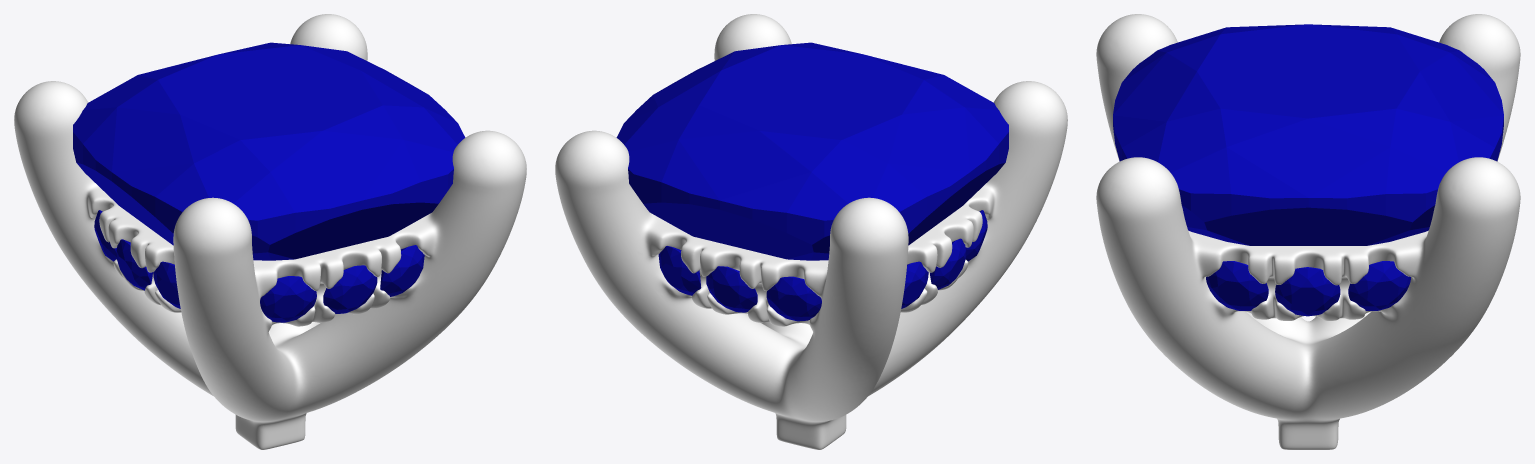
File: Cushion Square.glb
3 renders of one model, left to right at view 1: azimuth 30°, elevation 25°; view 2: azimuth 150°, elevation 25°; view 3: azimuth 270°, elevation 25°, orthographic. The views are drawn at different scales.
Parts seen in each view (by area): view 1: /GSMOD388300-HIDDEN HALO_CUSHION SQUARE_IJ.3dm, Diamond_Cushion Square, Diamond_Round (×5); view 2: /GSMOD388300-HIDDEN HALO_CUSHION SQUARE_IJ.3dm, Diamond_Cushion Square, Diamond_Round (×5); view 3: /GSMOD388300-HIDDEN HALO_CUSHION SQUARE_IJ.3dm, Diamond_Cushion Square, Diamond_Round (×3).
Part boxes in pixels (x1=…): /GSMOD388300-HIDDEN HALO_CUSHION SQUARE_IJ.3dm: x1=14, y1=14, x2=526, y2=449; Diamond_Cushion Square: x1=73, y1=42, x2=465, y2=260; Diamond_Round (×5): x1=116, y1=239, x2=424, y2=322; /GSMOD388300-HIDDEN HALO_CUSHION SQUARE_IJ.3dm: x1=555, y1=14, x2=1067, y2=449; Diamond_Cushion Square: x1=616, y1=42, x2=1008, y2=260; Diamond_Round (×5): x1=658, y1=238, x2=965, y2=321; /GSMOD388300-HIDDEN HALO_CUSHION SQUARE_IJ.3dm: x1=1096, y1=14, x2=1520, y2=449; Diamond_Cushion Square: x1=1113, y1=24, x2=1503, y2=245; Diamond_Round (×3): x1=1206, y1=261, x2=1410, y2=316.
Bounding box in the file's own units: 7.47 × 7.17 × 7.49.
